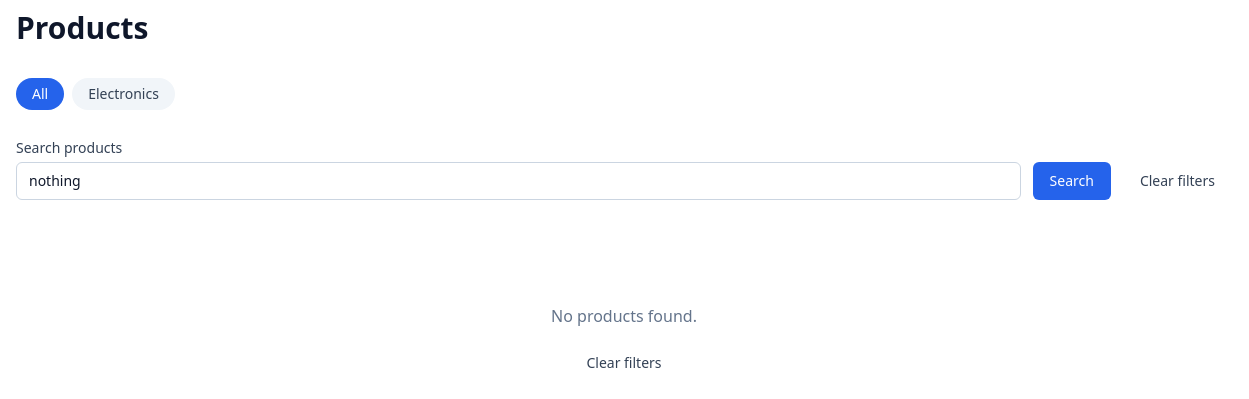
Test case: ProductDiscovery — ProductListPage branch coverage › clicking "Clear filters" in empty state clears the search
Check: the text "No products found." is shown, box [551,305,697,327]
Click the empty-state "Clear filters" button (last one rendered)
Click the button "Clear filters" below "No products found." at (624, 363), box [569,344,678,382]
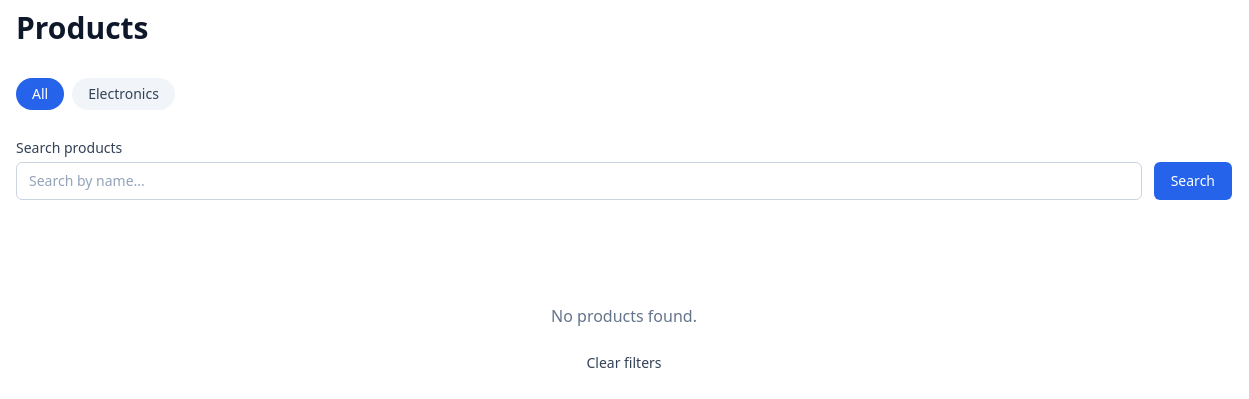
Check: the field labelled "Search products" is empty, box [16,162,1142,200]
